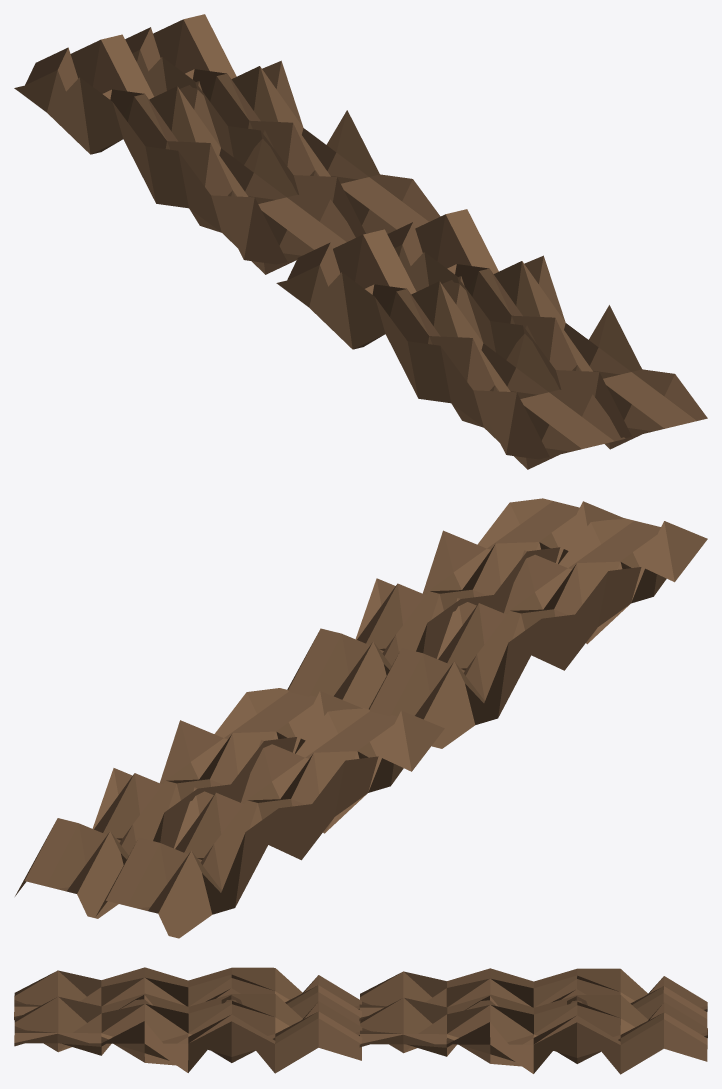
The model's file is bulk-load.dae.
3 renders of one model, top to bottom at view 1: azimuth 30°, elevation 25°; view 2: azimuth 150°, elevation 25°; view 3: azimuth 270°, elevation 25°, orthographic. The views are drawn at different scales.
Parts seen in each view (by area): view 1: Plane_002; view 2: Plane_002; view 3: Plane_002.
Boxes of the visible parts, bbox=[...] form: Plane_002: bbox=[14, 14, 707, 469]; Plane_002: bbox=[15, 498, 707, 938]; Plane_002: bbox=[14, 967, 707, 1074].
Size of the model in its own units: 0.8134 by 4.26 by 0.354.
